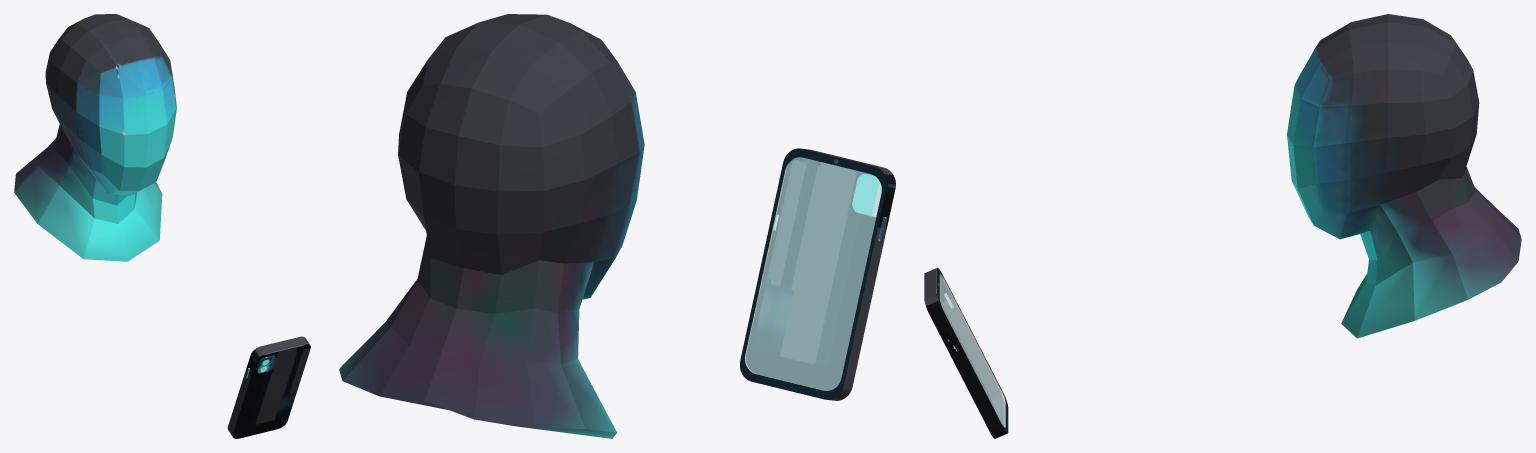
The picture shows the model from 3 angles, left to right: view 1: azimuth 30°, elevation 25°; view 2: azimuth 150°, elevation 25°; view 3: azimuth 270°, elevation 25°; orthographic projection. The views are drawn at different scales.
Visible parts, largest first — view 1: Head, Phone_Case; view 2: Head, Phone_Case, Phone_Camera; view 3: Head, Phone_Case.
Boxes of the visible parts, x1,y1,x2,y2 form: Head: (14, 14, 176, 261); Phone_Case: (227, 336, 310, 438); Head: (339, 14, 644, 438); Phone_Case: (740, 148, 895, 400); Phone_Camera: (852, 174, 881, 216); Head: (1287, 14, 1521, 338); Phone_Case: (924, 267, 1008, 438).
Bounding box in the file's own units: 1.97 × 4.37 × 5.88.
4 materials, 4 textured.
